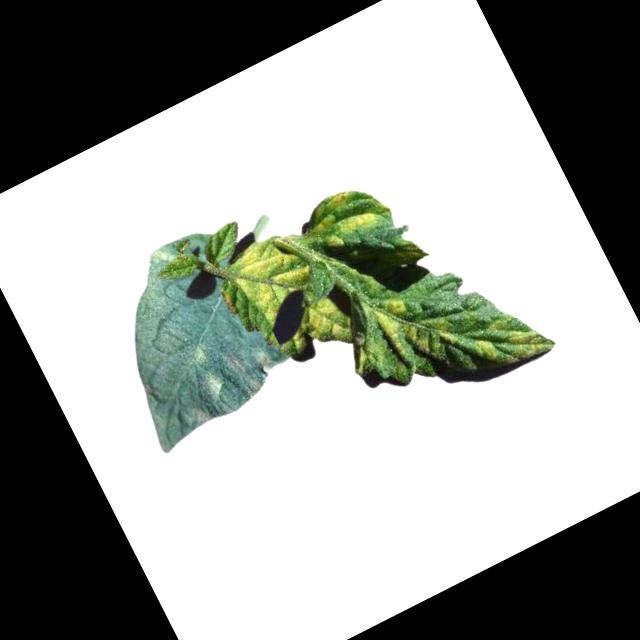Leaf_Mold: (170, 335, 284, 430), (366, 277, 465, 377), (225, 224, 323, 324), (302, 172, 396, 256), (470, 301, 557, 379), (291, 289, 360, 360)
